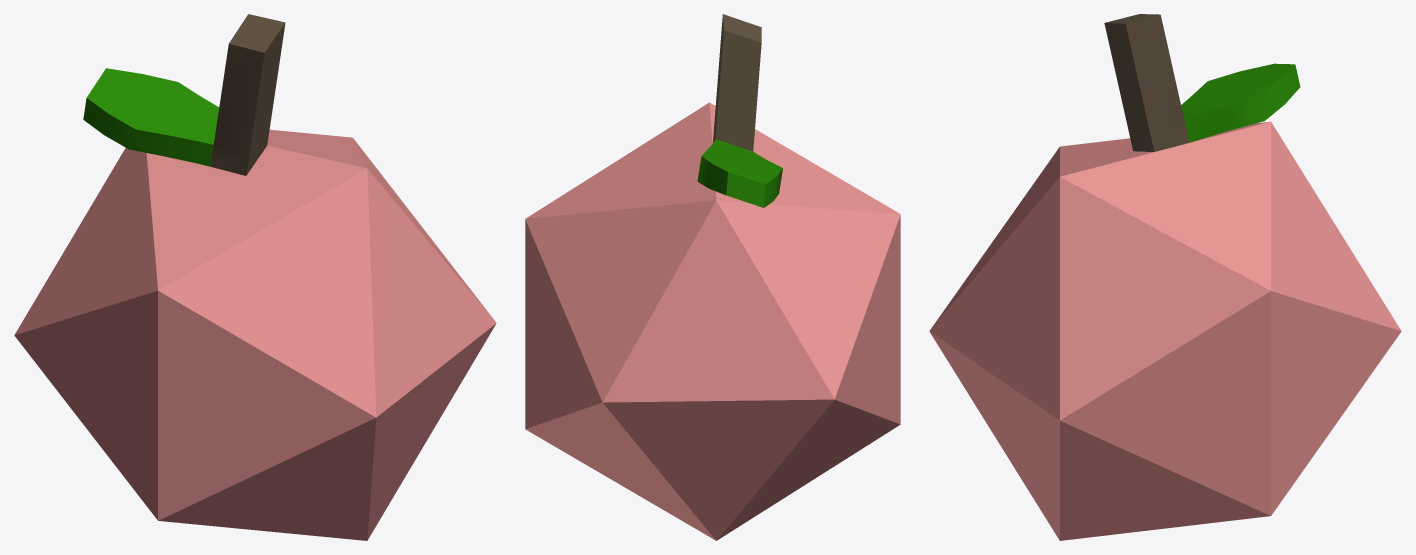
The model's file is LightPinkFruit.fbx.
The picture shows the model from 3 angles, left to right: view 1: azimuth 30°, elevation 25°; view 2: azimuth 150°, elevation 25°; view 3: azimuth 270°, elevation 25°; orthographic projection. The views are drawn at different scales.
Parts seen in each view (by area): view 1: pPlatonic1.024, pPlatonic1.026, pPlatonic1.025; view 2: pPlatonic1.024, pPlatonic1.025, pPlatonic1.026; view 3: pPlatonic1.024, pPlatonic1.025, pPlatonic1.026.
Part boxes in pixels (left/top/right/bottom): pPlatonic1.024: left=14, top=129, right=496, bottom=540; pPlatonic1.026: left=83, top=68, right=219, bottom=166; pPlatonic1.025: left=210, top=14, right=285, bottom=175; pPlatonic1.024: left=525, top=102, right=900, bottom=540; pPlatonic1.025: left=713, top=14, right=761, bottom=151; pPlatonic1.026: left=697, top=139, right=782, bottom=207; pPlatonic1.024: left=929, top=121, right=1401, bottom=540; pPlatonic1.025: left=1104, top=14, right=1189, bottom=151; pPlatonic1.026: left=1181, top=63, right=1300, bottom=142.
Bounding box in the file's own units: 52.15 × 67.32 × 58.31.
